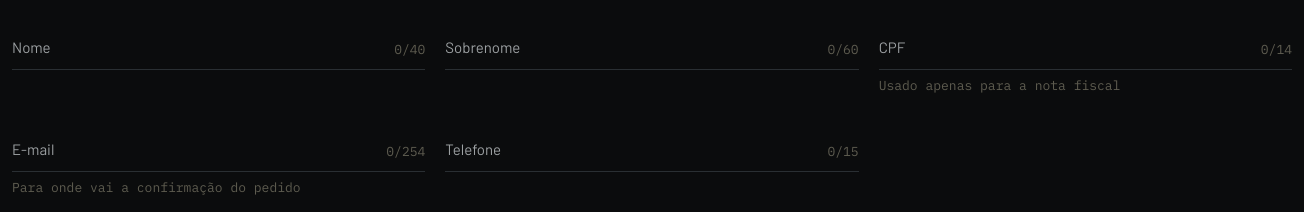
Test: PersonalStep › exibe erro no campo obrigatório deixado vazio
Click the field labelled "Nome" at (219, 43), box [12, 16, 425, 70]
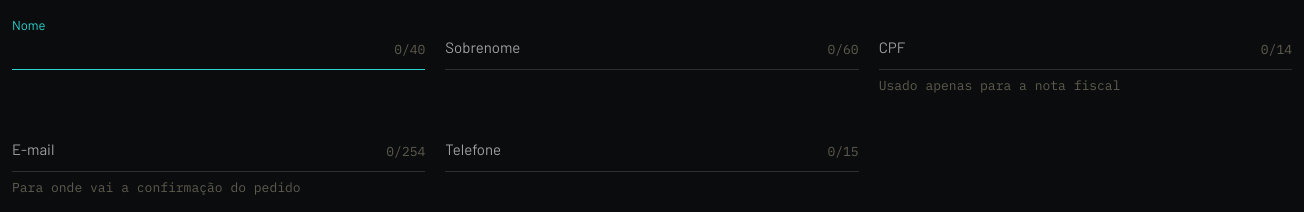
Press Tab
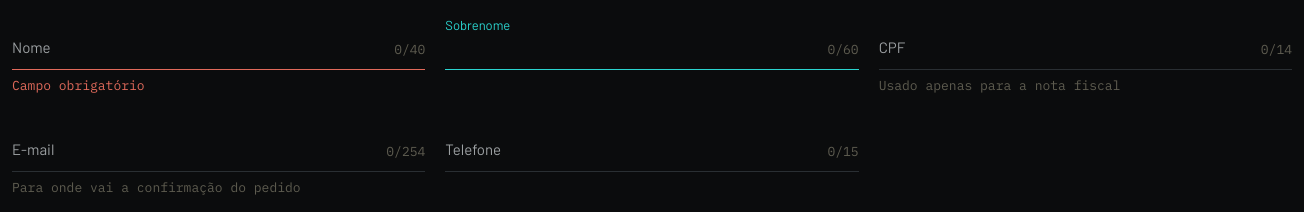
expect the text "Campo obrigatório" is shown: met, box [12, 77, 145, 94]
